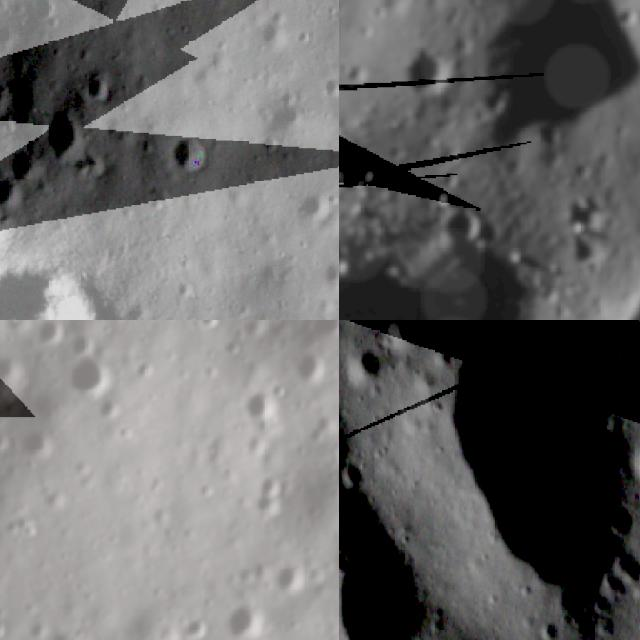crater: (425, 320, 640, 617), (339, 535, 460, 640), (0, 242, 122, 320), (388, 38, 461, 105), (38, 106, 98, 173), (163, 127, 217, 186), (436, 197, 486, 250), (291, 182, 338, 230), (64, 349, 114, 393), (226, 599, 272, 640), (604, 268, 640, 320), (344, 341, 382, 387), (384, 320, 433, 353), (611, 320, 640, 371), (20, 424, 60, 460), (252, 474, 285, 517), (0, 170, 29, 215), (296, 348, 328, 382), (241, 386, 269, 422), (34, 320, 69, 347), (96, 392, 127, 422), (27, 0, 61, 26), (277, 559, 303, 591), (536, 615, 569, 640), (304, 320, 339, 342), (70, 327, 94, 358), (136, 356, 159, 382), (24, 616, 48, 638), (192, 320, 223, 333), (0, 612, 12, 640), (48, 630, 80, 640), (2, 320, 25, 328)
